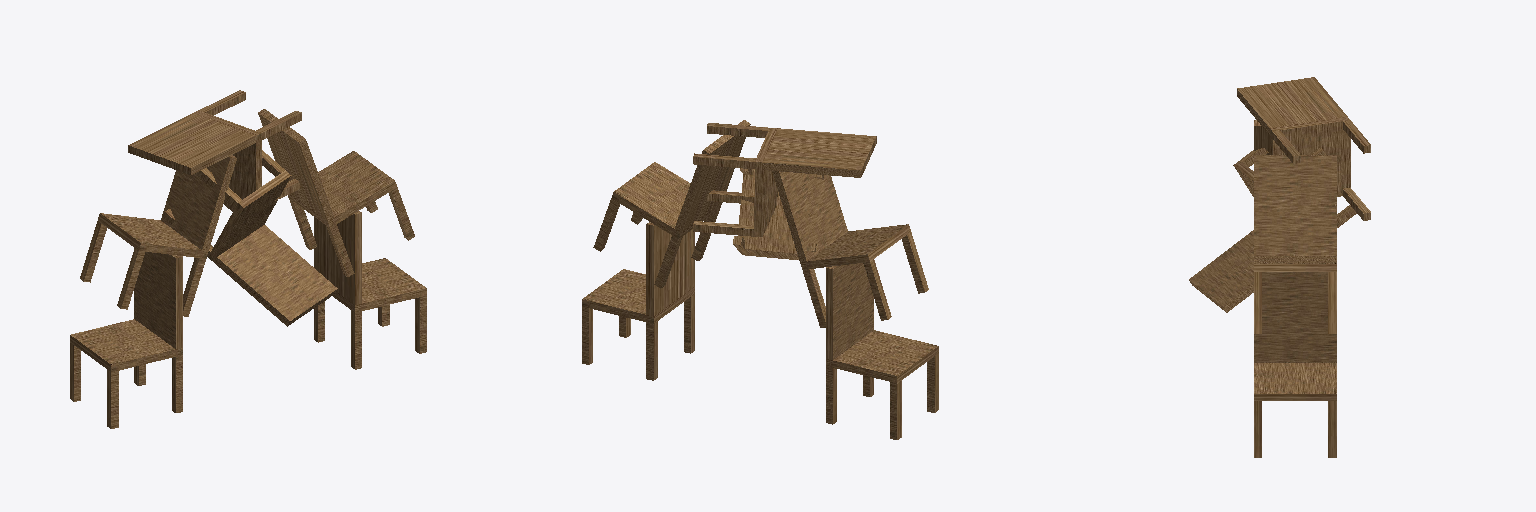
3 renders of one model, left to right at view 1: azimuth 30°, elevation 25°; view 2: azimuth 150°, elevation 25°; view 3: azimuth 270°, elevation 25°, orthographic.
Parts seen in each view (by area): view 1: Cube.005_Cube.013; view 2: Cube.005_Cube.013; view 3: Cube.005_Cube.013.
Boxes of the visible parts, x1=… form: Cube.005_Cube.013: x1=70, y1=90, x2=426, y2=428; Cube.005_Cube.013: x1=582, y1=120, x2=938, y2=439; Cube.005_Cube.013: x1=1189, y1=77, x2=1370, y2=457.
Size of the model in its own units: 5.98 by 4.54 by 3.
Materials: 6 (1 with a texture image).